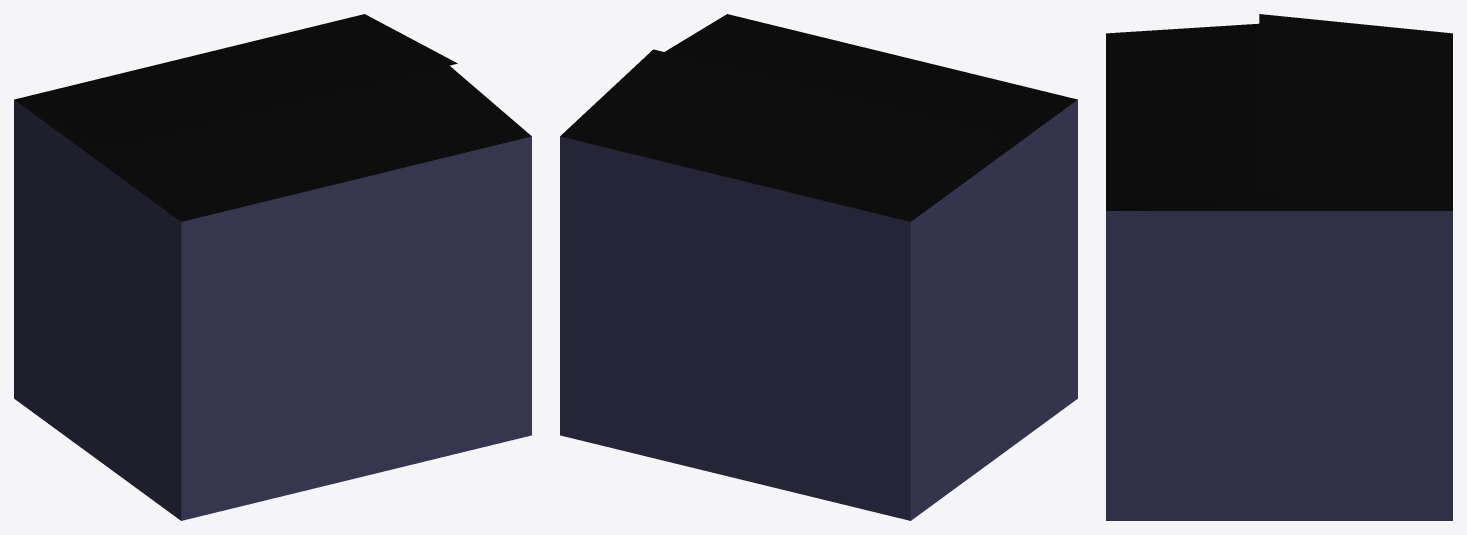
3 views of the same model, side by side, from view 1: azimuth 30°, elevation 25°; view 2: azimuth 150°, elevation 25°; view 3: azimuth 270°, elevation 25° (orthographic). The views are drawn at different scales.
Visible parts, largest first — view 1: Cardboard7; view 2: Cardboard7; view 3: Cardboard7.
Boxes of the visible parts, left/top/right/bottom form: Cardboard7: left=14, top=14, right=531, bottom=520; Cardboard7: left=560, top=14, right=1077, bottom=520; Cardboard7: left=1106, top=14, right=1452, bottom=520.
Size of the model in its own units: 3.11 by 2.69 by 2.57.
